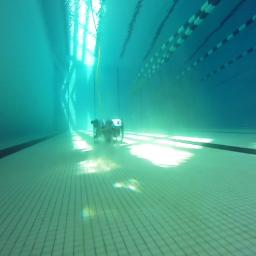back: (90, 117, 124, 146)
